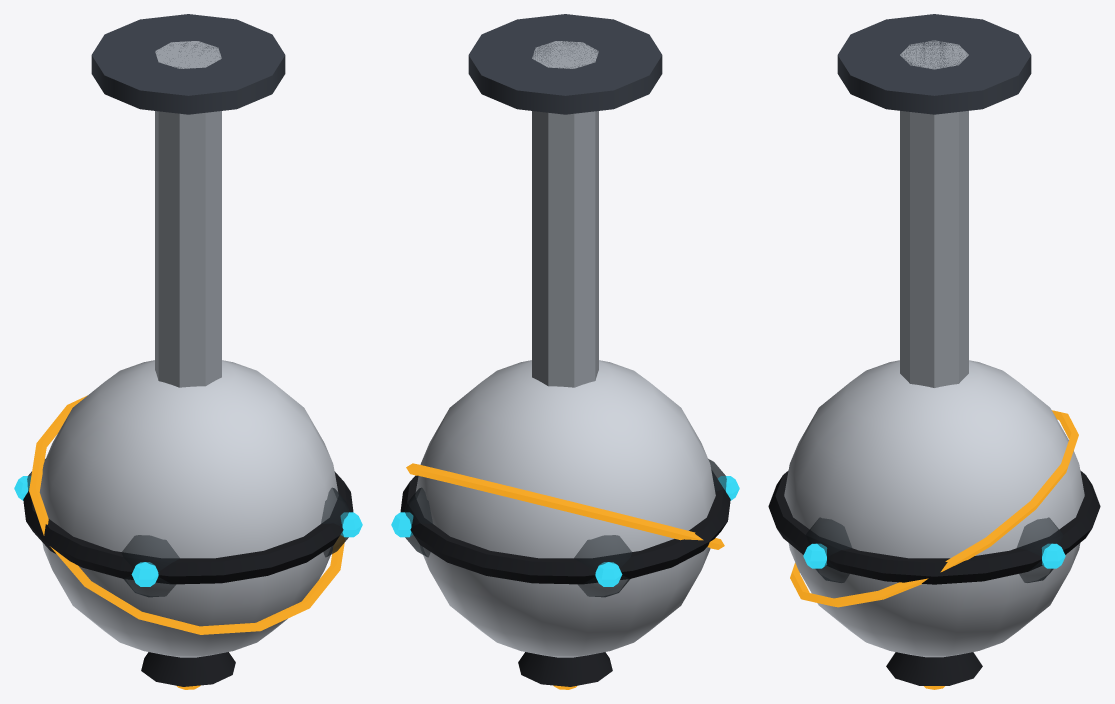
Rendered from camera_sentry_sensor_pod.glb.
The picture shows the model from 3 angles, left to right: view 1: azimuth 30°, elevation 25°; view 2: azimuth 150°, elevation 25°; view 3: azimuth 270°, elevation 25°; orthographic projection.
Visible parts, largest first — view 1: camera_sentry_sensor_pod; view 2: camera_sentry_sensor_pod; view 3: camera_sentry_sensor_pod.
Part boxes in pixels (x1=…): camera_sentry_sensor_pod: x1=14, y1=14, x2=362, y2=689; camera_sentry_sensor_pod: x1=391, y1=14, x2=739, y2=689; camera_sentry_sensor_pod: x1=768, y1=14, x2=1100, y2=689.
Bounding box in the file's own units: 0.48 × 1.01 × 0.48.
